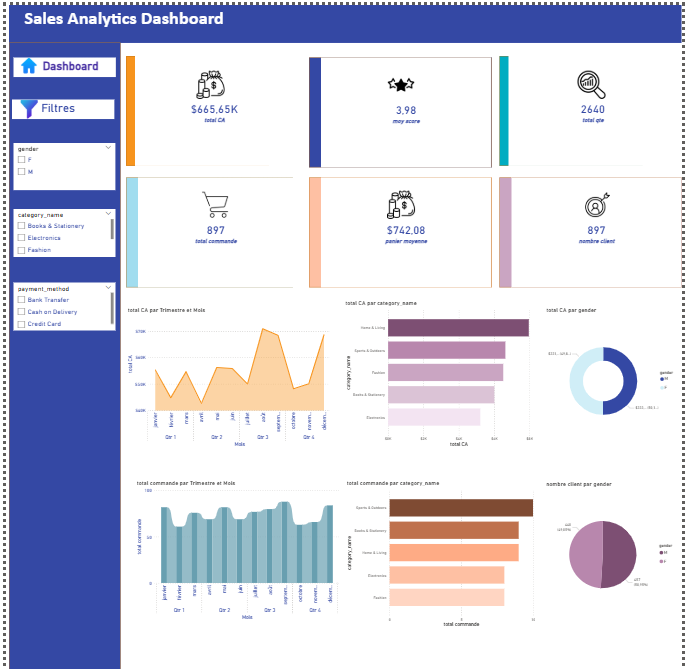

This screenshot's page, from the dashboard's own definition file:
{"tool":"powerbi","page":{"name":"Page 1","canvas":[1960,2000],"ordinal":0},"visuals":[{"type":"textbox","box":[9.6,0,1949.6,110.2],"z":0},{"type":"shape","box":[349.7,148.5,414.4,318.5],"z":0,"group":"g6"},{"type":"shape","box":[1432.3,148.5,414.4,318.5],"z":0,"group":"g9"},{"type":"shape","box":[879,150.9,529.3,318.5],"z":0,"group":"g8"},{"type":"shape","box":[349.7,500.6,483.8,318.5],"z":0,"group":"g10"},{"type":"shape","box":[879,500.6,529.3,318.5],"z":0,"group":"g11"},{"type":"shape","box":[1429.9,500.6,529.3,318.5],"z":0,"group":"g12"},{"type":"card","fields":{"Values":["fait_vente.total qte"]},"box":[1460.4,147.3,488.6,318.5],"z":500,"group":"g1"},{"type":"card","title":"Chiffre d''Affaires","fields":{"Values":["fait_vente.total CA"]},"box":[375.9,149.7,459.9,318.5],"z":500,"group":"g7"},{"type":"card","fields":{"Values":["fait_vente.moy score"]},"box":[915.7,150.9,492.6,318.5],"z":500,"group":"g2"},{"type":"card","fields":{"Values":["fait_vente.total commande"]},"box":[383.3,500.6,450.3,318.5],"z":500,"group":"g3"},{"type":"card","fields":{"Values":["fait_vente.panier moyenne"]},"box":[915.7,500.6,492.6,318.5],"z":500,"group":"g4"},{"type":"card","fields":{"Values":["fait_vente.nombre client"]},"box":[1466.1,501.9,492.6,318.5],"z":500,"group":"g5"},{"type":"shape","box":[10,110,323.3,1890],"z":1000},{"type":"group","id":"g1","title":"Groupe 1","box":[1460.4,147.3,488.6,318.5],"z":1000,"group":"g9"},{"type":"group","id":"g2","title":"Groupe 1","box":[915.7,150.9,492.6,318.5],"z":1000,"group":"g8"},{"type":"group","id":"g3","title":"Groupe 1","box":[383.3,500.6,450.3,318.5],"z":1000,"group":"g10"},{"type":"group","id":"g4","title":"Groupe 1","box":[915.7,500.6,492.6,318.5],"z":1000,"group":"g11"},{"type":"group","id":"g5","title":"Groupe 1","box":[1466.1,501.9,493.4,318.5],"z":1000,"group":"g12"},{"type":"group","id":"g6","title":"Groupe 2","box":[349.7,148.5,486.2,318.5],"z":2000},{"type":"group","id":"g7","title":"Groupe 1","box":[375.9,149.7,459.9,318.5],"z":3000,"group":"g6"},{"type":"group","id":"g8","title":"Groupe 3","box":[879,150.9,529.3,318.5],"z":3000},{"type":"group","id":"g9","title":"Groupe 4","box":[1432.3,147.3,516.7,319.7],"z":4000},{"type":"group","id":"g10","title":"Groupe 3","box":[349.7,500.6,483.8,318.5],"z":5000},{"type":"group","id":"g11","title":"Groupe 3","box":[879,500.6,529.3,318.5],"z":6000},{"type":"group","id":"g12","title":"Groupe 3","box":[1429.9,500.6,529.6,319.9],"z":7000},{"type":"image","box":[550.9,186.8,81.4,88.6],"z":8000},{"type":"image","box":[1104.1,186.8,81.4,88.6],"z":9000},{"type":"image","box":[1655,186.8,81.4,88.6],"z":10000},{"type":"image","box":[565.2,534.1,81.4,88.6],"z":11000},{"type":"image","box":[1104.1,534.1,81.4,88.6],"z":12000},{"type":"image","box":[1671.8,534.1,81.4,88.6],"z":13000},{"type":"lineChart","fields":{"Y":["fait_vente.total CA"],"Category":["dim_date.order_date.Variation.Hiérarchie de dates.Trimestre","dim_date.order_date.Variation.Hiérarchie de dates.Mois"]},"box":[349.5,872,596.6,411.3],"z":14000},{"type":"barChart","fields":{"Category":["dim_categorie.category_name"],"Y":["fait_vente.total CA"]},"box":[979.7,850.8,554.3,432.5],"z":15000},{"type":"donutChart","fields":{"Y":["fait_vente.total CA"],"Category":["dim_client.gender"]},"box":[1559.2,871.8,400,412],"z":16000},{"type":"ribbonChart","fields":{"Category":["dim_date.order_date.Variation.Hiérarchie de dates.Trimestre","dim_date.order_date.Variation.Hiérarchie de dates.Mois"],"Y":["fait_vente.total commande"]},"box":[376,1374.8,596.4,412],"z":17000},{"type":"barChart","fields":{"Y":["fait_vente.total commande"],"Category":["dim_categorie.category_name"]},"box":[984.4,1374.8,555.7,433.5],"z":18000},{"type":"pieChart","fields":{"Category":["dim_client.gender"],"Y":["fait_vente.nombre client"]},"box":[1559.2,1377.2,397.6,409.6],"z":19000},{"type":"textbox","box":[21.7,150,296.7,56.7],"z":20000},{"type":"image","box":[36.7,148.3,63.3,55],"z":21000},{"type":"textbox","box":[19.4,274.4,296.7,56.7],"z":21001},{"type":"image","box":[35,275,65,56.7],"z":21002},{"type":"slicer","fields":{"Values":["dim_client.gender"]},"box":[23.3,401.7,295,136.7],"z":21003},{"type":"slicer","fields":{"Values":["dim_categorie.category_name"]},"box":[23.3,593.3,295,136.7],"z":21004},{"type":"slicer","fields":{"Values":["dim_paiement.payment_method"]},"box":[23.3,803.3,295,136.7],"z":21006}]}

Visuals, with their boxes on the page's 1960x2000 design canvas (x1, y1, x2, y2). These are canvas units, not pixel positions in the 688x669 screenshot, which may show the page scaled, cropped or inside an application window:
textbox: pyautogui.locateOnScreen(10, 0, 1959, 110)
shape: pyautogui.locateOnScreen(350, 148, 764, 467)
shape: pyautogui.locateOnScreen(1432, 148, 1847, 467)
shape: pyautogui.locateOnScreen(879, 151, 1408, 469)
shape: pyautogui.locateOnScreen(350, 501, 834, 819)
shape: pyautogui.locateOnScreen(879, 501, 1408, 819)
shape: pyautogui.locateOnScreen(1430, 501, 1959, 819)
card - fait_vente.total qte: pyautogui.locateOnScreen(1460, 147, 1949, 466)
"Chiffre d''Affaires" card: pyautogui.locateOnScreen(376, 150, 836, 468)
card - fait_vente.moy score: pyautogui.locateOnScreen(916, 151, 1408, 469)
card - fait_vente.total commande: pyautogui.locateOnScreen(383, 501, 834, 819)
card - fait_vente.panier moyenne: pyautogui.locateOnScreen(916, 501, 1408, 819)
card - fait_vente.nombre client: pyautogui.locateOnScreen(1466, 502, 1959, 820)
shape: pyautogui.locateOnScreen(10, 110, 333, 2000)
"Groupe 1" group: pyautogui.locateOnScreen(1460, 147, 1949, 466)
"Groupe 1" group: pyautogui.locateOnScreen(916, 151, 1408, 469)
"Groupe 1" group: pyautogui.locateOnScreen(383, 501, 834, 819)
"Groupe 1" group: pyautogui.locateOnScreen(916, 501, 1408, 819)
"Groupe 1" group: pyautogui.locateOnScreen(1466, 502, 1960, 820)
"Groupe 2" group: pyautogui.locateOnScreen(350, 148, 836, 467)
"Groupe 1" group: pyautogui.locateOnScreen(376, 150, 836, 468)
"Groupe 3" group: pyautogui.locateOnScreen(879, 151, 1408, 469)
"Groupe 4" group: pyautogui.locateOnScreen(1432, 147, 1949, 467)
"Groupe 3" group: pyautogui.locateOnScreen(350, 501, 834, 819)
"Groupe 3" group: pyautogui.locateOnScreen(879, 501, 1408, 819)
"Groupe 3" group: pyautogui.locateOnScreen(1430, 501, 1960, 820)
image: pyautogui.locateOnScreen(551, 187, 632, 275)
image: pyautogui.locateOnScreen(1104, 187, 1186, 275)
image: pyautogui.locateOnScreen(1655, 187, 1736, 275)
image: pyautogui.locateOnScreen(565, 534, 647, 623)
image: pyautogui.locateOnScreen(1104, 534, 1186, 623)
image: pyautogui.locateOnScreen(1672, 534, 1753, 623)
lineChart - fait_vente.total CA x dim_date.order_date.Variation.Hiérarchie de dates.Trimestre: pyautogui.locateOnScreen(350, 872, 946, 1283)
barChart - dim_categorie.category_name x fait_vente.total CA: pyautogui.locateOnScreen(980, 851, 1534, 1283)
donutChart - fait_vente.total CA x dim_client.gender: pyautogui.locateOnScreen(1559, 872, 1959, 1284)
ribbonChart - dim_date.order_date.Variation.Hiérarchie de dates.Trimestre x dim_date.order_date.Variation.Hiérarchie de dates.Mois: pyautogui.locateOnScreen(376, 1375, 972, 1787)
barChart - fait_vente.total commande x dim_categorie.category_name: pyautogui.locateOnScreen(984, 1375, 1540, 1808)
pieChart - dim_client.gender x fait_vente.nombre client: pyautogui.locateOnScreen(1559, 1377, 1957, 1787)
textbox: pyautogui.locateOnScreen(22, 150, 318, 207)
image: pyautogui.locateOnScreen(37, 148, 100, 203)
textbox: pyautogui.locateOnScreen(19, 274, 316, 331)
image: pyautogui.locateOnScreen(35, 275, 100, 332)
slicer - dim_client.gender: pyautogui.locateOnScreen(23, 402, 318, 538)
slicer - dim_categorie.category_name: pyautogui.locateOnScreen(23, 593, 318, 730)
slicer - dim_paiement.payment_method: pyautogui.locateOnScreen(23, 803, 318, 940)
